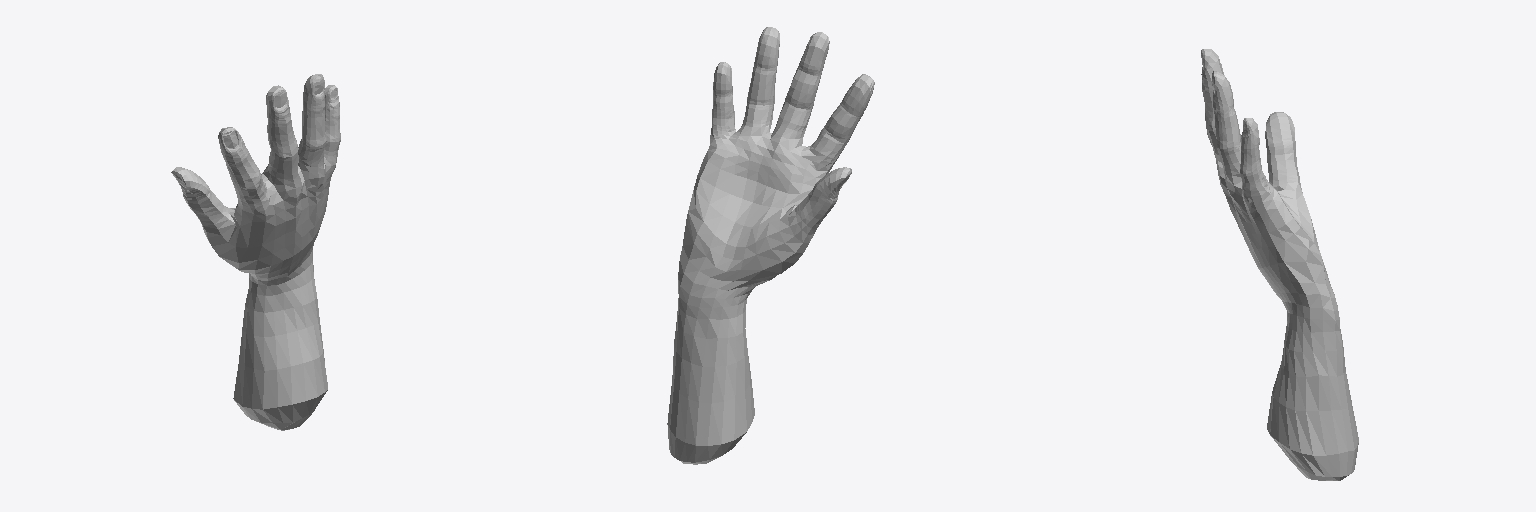
The model's file is hand.obj.
3 renders of one model, left to right at view 1: azimuth 30°, elevation 25°; view 2: azimuth 150°, elevation 25°; view 3: azimuth 270°, elevation 25°, orthographic.
Parts seen in each view (by area): view 1: HandMesh; view 2: HandMesh; view 3: HandMesh.
Part boxes in pixels (x1,y1,x2,y2): HandMesh: (171, 74, 340, 430); HandMesh: (667, 27, 874, 464); HandMesh: (1201, 49, 1358, 480).
Size of the model in its own units: 0.1255 by 0.2923 by 0.1051.